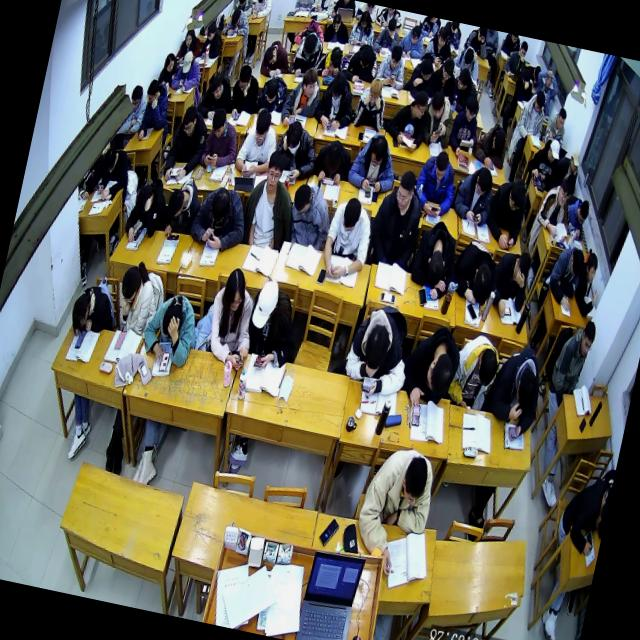bow: (362, 162, 432, 274), (395, 316, 467, 418), (482, 338, 550, 443), (137, 286, 202, 370), (186, 179, 252, 256), (405, 215, 463, 302), (111, 256, 164, 338), (446, 237, 502, 310), (268, 116, 322, 184), (67, 274, 121, 342), (542, 242, 588, 314), (159, 171, 206, 241), (570, 248, 608, 318), (225, 60, 264, 124), (310, 136, 356, 189), (195, 69, 236, 125), (470, 119, 512, 172), (446, 66, 486, 119), (339, 38, 382, 86), (252, 70, 291, 120), (402, 52, 437, 100), (258, 37, 294, 81), (450, 42, 484, 80), (293, 16, 328, 50), (220, 4, 253, 39), (230, 0, 255, 19)
down: (249, 276, 282, 334), (421, 348, 456, 401), (360, 320, 394, 372), (512, 367, 542, 417), (220, 265, 250, 314), (472, 346, 500, 388), (207, 183, 234, 226), (338, 194, 364, 237), (158, 301, 186, 340), (321, 138, 346, 178), (118, 264, 143, 304), (281, 119, 306, 158), (290, 180, 316, 217), (250, 108, 274, 148), (69, 293, 93, 332), (509, 250, 534, 287), (505, 175, 529, 213), (366, 132, 389, 170), (164, 186, 188, 221), (178, 102, 200, 140), (133, 180, 156, 216), (208, 105, 230, 139), (365, 74, 386, 108), (430, 149, 450, 183), (427, 88, 448, 120), (328, 70, 349, 102), (566, 248, 586, 280), (234, 64, 254, 95), (100, 145, 120, 175), (262, 76, 281, 107), (473, 167, 492, 198), (489, 126, 508, 156), (461, 94, 480, 124), (128, 82, 146, 112), (386, 42, 404, 72), (574, 196, 592, 226), (566, 146, 584, 176), (144, 76, 160, 108), (358, 42, 376, 70), (544, 138, 562, 166), (300, 30, 318, 57), (326, 44, 344, 71), (530, 87, 548, 114), (434, 24, 450, 50), (438, 58, 454, 84), (262, 44, 279, 66), (408, 22, 423, 46), (554, 107, 568, 132), (180, 48, 194, 72), (228, 7, 242, 29), (384, 17, 398, 39), (462, 46, 476, 67), (358, 8, 371, 30), (330, 12, 342, 32), (518, 38, 530, 58)
lookup: (397, 453, 432, 511), (261, 147, 288, 194), (392, 166, 418, 212), (576, 319, 596, 360), (582, 250, 601, 286), (554, 178, 574, 210), (204, 19, 218, 42), (542, 68, 556, 90), (183, 27, 195, 48)
sit: (346, 440, 442, 582), (338, 296, 420, 404), (236, 142, 308, 255), (200, 264, 266, 372), (238, 274, 306, 374), (317, 192, 378, 286), (445, 330, 504, 416), (160, 99, 213, 188), (555, 477, 612, 558), (546, 314, 598, 402), (480, 172, 533, 254), (344, 128, 403, 198), (283, 178, 338, 252), (232, 104, 284, 180), (410, 144, 462, 218), (122, 173, 172, 247), (486, 243, 534, 320), (382, 83, 434, 154), (449, 160, 499, 228), (278, 62, 326, 132), (196, 104, 244, 174), (312, 65, 362, 132), (532, 173, 579, 242), (444, 92, 485, 160), (136, 74, 174, 144), (418, 88, 459, 152), (94, 143, 134, 205), (350, 74, 391, 134), (372, 40, 412, 94), (288, 24, 326, 80), (514, 86, 550, 142), (524, 134, 562, 184), (170, 46, 206, 95), (426, 54, 462, 103), (118, 82, 150, 137), (552, 145, 584, 197), (421, 22, 455, 67), (562, 194, 593, 242), (346, 8, 379, 50), (312, 40, 346, 80), (372, 13, 402, 57), (396, 20, 428, 60), (542, 105, 570, 149), (503, 35, 531, 79), (321, 11, 353, 48), (155, 48, 183, 90), (198, 18, 226, 60), (176, 24, 204, 62), (512, 68, 536, 104), (249, 0, 274, 20)
